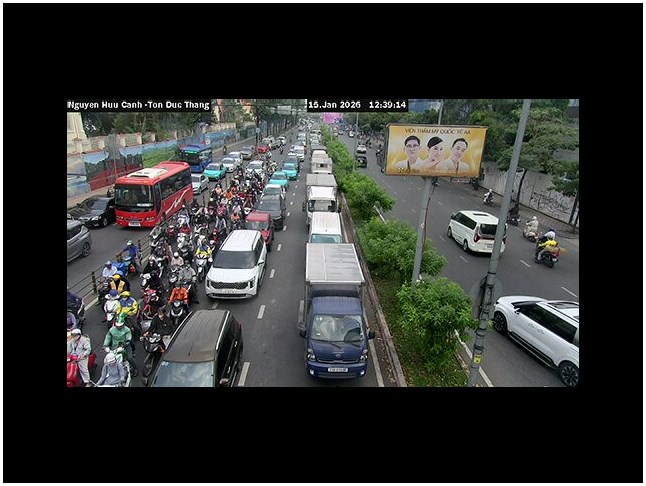bus: (295, 240, 372, 380), (113, 159, 194, 230), (178, 138, 213, 168)
car: (491, 294, 580, 386), (150, 307, 245, 387), (447, 209, 500, 255), (68, 196, 116, 230), (67, 217, 92, 262), (276, 157, 299, 180), (202, 163, 227, 180)
motorbike: (536, 244, 559, 268)
